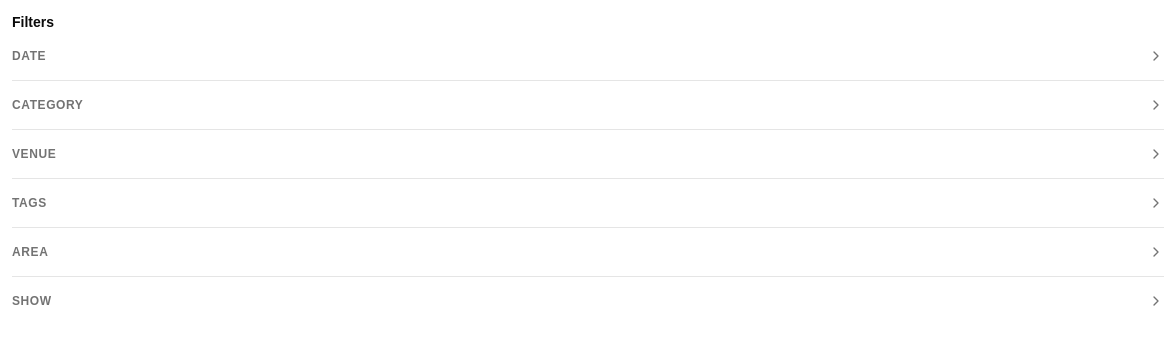
tag filtering › renders each tag with a label and a hide control
This screenshot has width=1176, height=357.
Click the button "Tags". click: [29, 203]
box: [12, 191, 1164, 215]
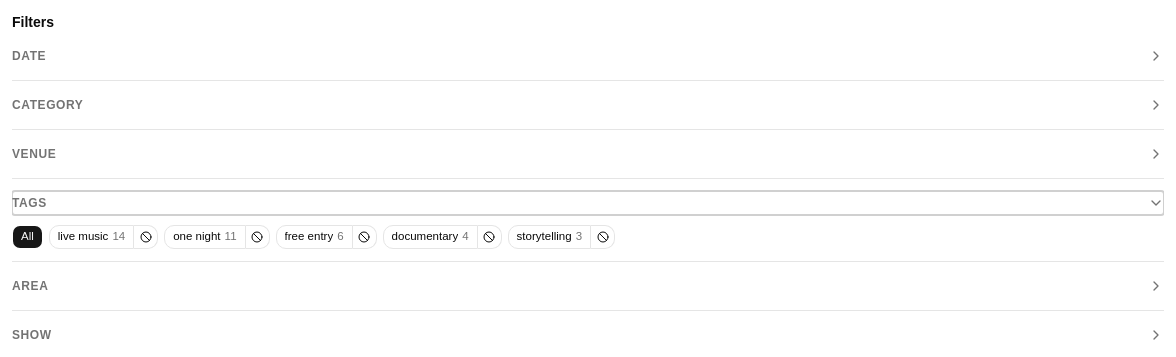
Expected: the button with aria-label "live music, 14 events" is shown, [49, 225, 134, 249]
Expected: the button named "hide live music" is shown, [134, 225, 158, 249]
